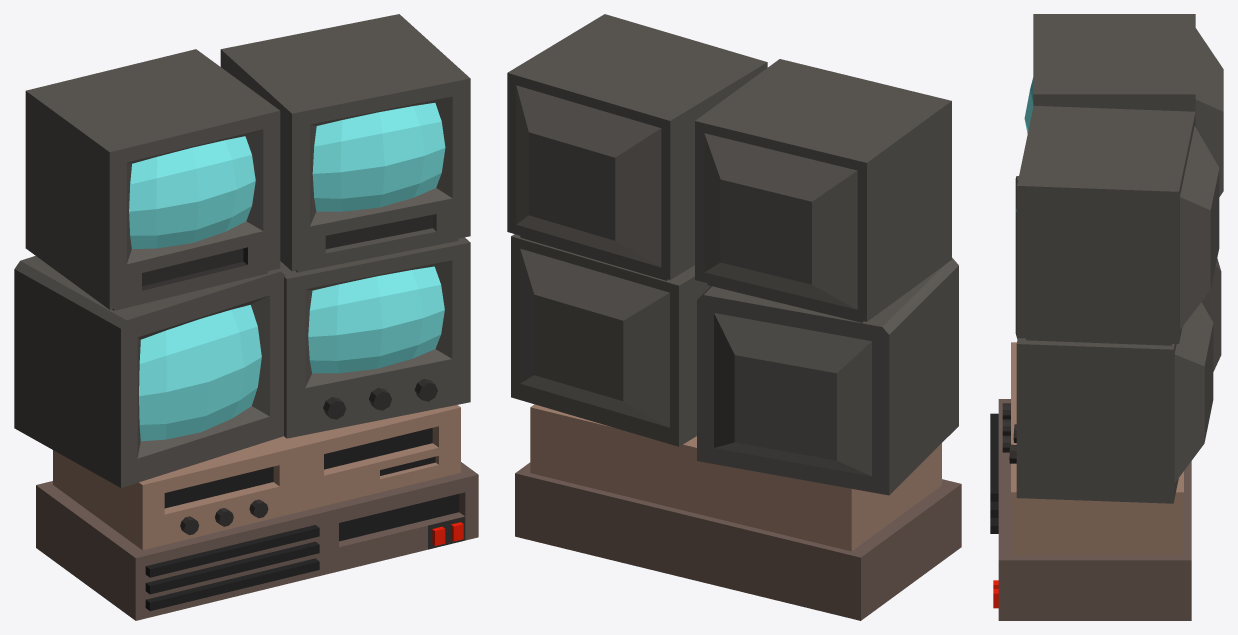
File: TVTowerWide.fbx
3 views of the same model, side by side, from view 1: azimuth 30°, elevation 25°; view 2: azimuth 150°, elevation 25°; view 3: azimuth 270°, elevation 25° (orthographic). The views are drawn at different scales.
Visible parts, largest first — view 1: TVTowerMiddle; view 2: TVTowerMiddle; view 3: TVTowerMiddle.
Boxes of the visible parts, x1,y1,x2,y2 form: TVTowerMiddle: (14,14,478,620); TVTowerMiddle: (507,14,961,620); TVTowerMiddle: (990,14,1223,620).
Size of the model in its own units: 110 by 126 by 60.43.
